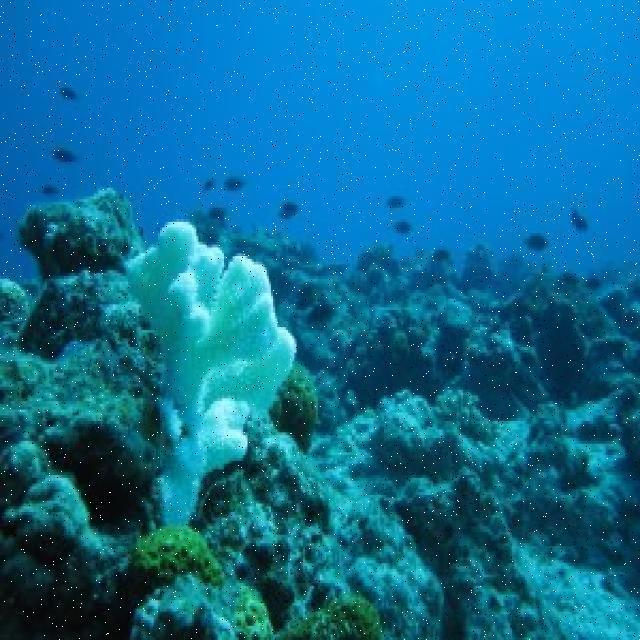Bleached: (145, 248, 303, 523)
Healthy: (1, 201, 133, 631)
